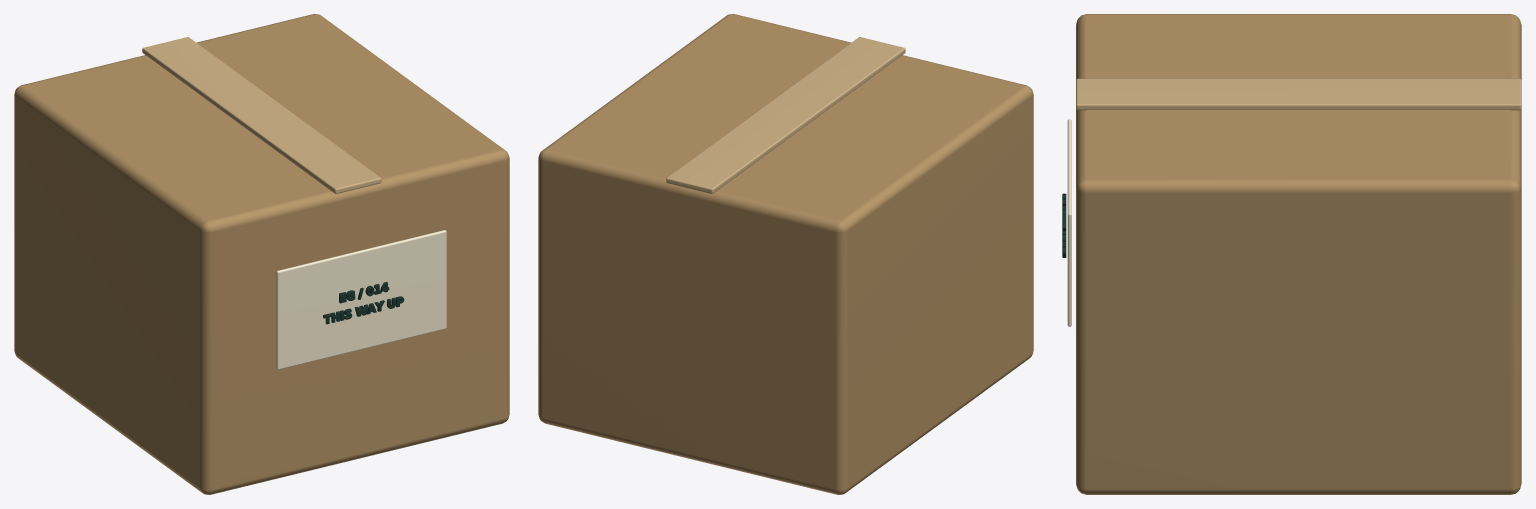
Rendered from SM_EG_ShippingCarton_Rack_eabaee651a.fbx.
The picture shows the model from 3 angles, left to right: view 1: azimuth 30°, elevation 25°; view 2: azimuth 150°, elevation 25°; view 3: azimuth 270°, elevation 25°; orthographic projection. The views are drawn at different scales.
Visible parts, largest first — view 1: SM_EG_ShippingCarton_Rack_eabaee651a; view 2: SM_EG_ShippingCarton_Rack_eabaee651a; view 3: SM_EG_ShippingCarton_Rack_eabaee651a.
Boxes of the visible parts, x1,y1,x2,y2 form: SM_EG_ShippingCarton_Rack_eabaee651a: (14,14,509,494); SM_EG_ShippingCarton_Rack_eabaee651a: (538,14,1033,494); SM_EG_ShippingCarton_Rack_eabaee651a: (1062,14,1521,494).
Size of what is drawn, in the model's own units: 46 by 51.52 by 39.7.
